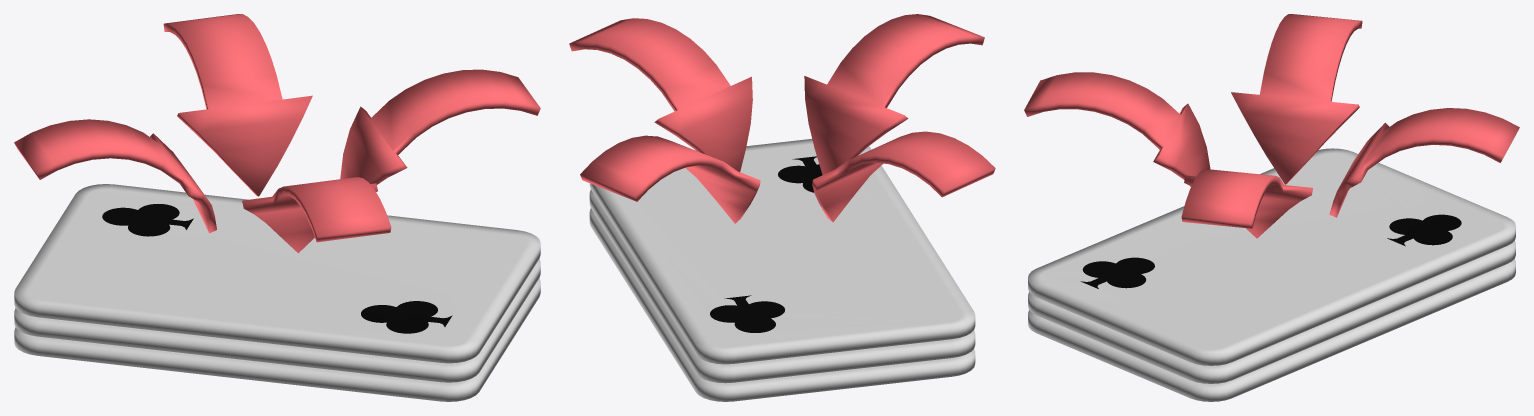
The model's file is return_card_icon.glb.
3 views of the same model, side by side, from view 1: azimuth 30°, elevation 25°; view 2: azimuth 150°, elevation 25°; view 3: azimuth 270°, elevation 25° (orthographic). The views are drawn at different scales.
Parts seen in each view (by area): view 1: Cards; view 2: Cards; view 3: Cards.
Part boxes in pixels (left/top/right/bottom): Cards: left=14, top=14, right=540, bottom=401; Cards: left=569, top=14, right=995, bottom=401; Cards: left=1024, top=14, right=1519, bottom=401.
Size of the model in its own units: 0.0848 by 0.0365 by 0.0848.
